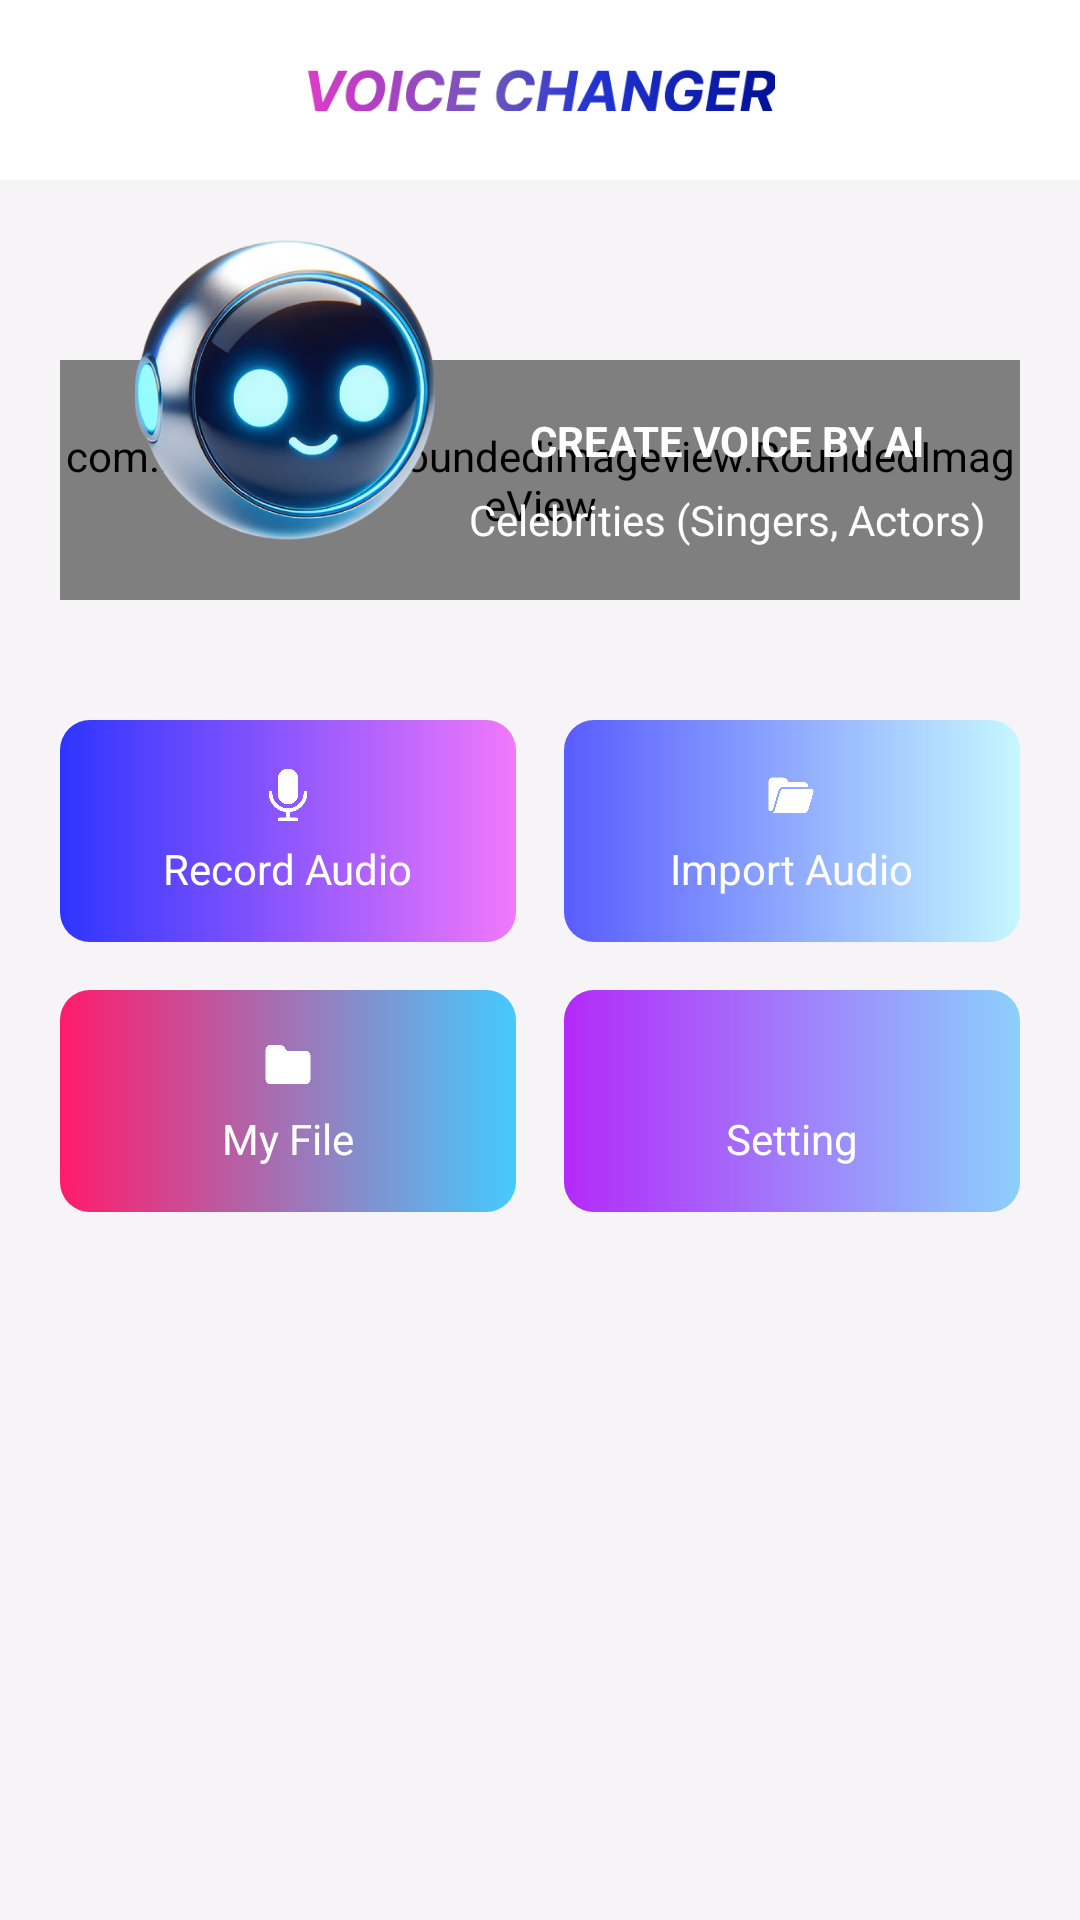

Where to tap for icons on this 1080x1920 app screen, as (x=x, y=y):
import file: (x=791, y=795)
robot: (x=285, y=390)
voice: (x=293, y=795)
